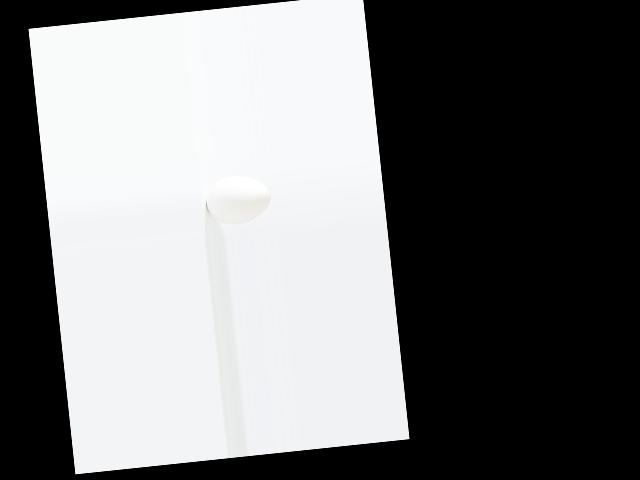egg: (203, 172, 273, 226)
